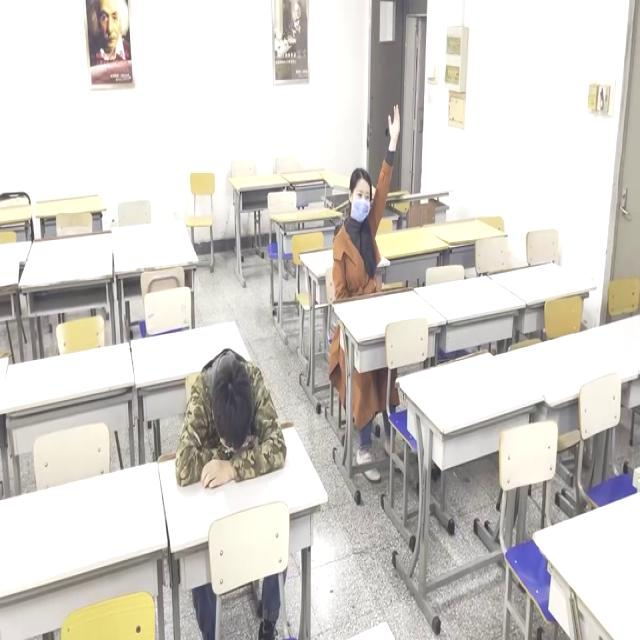sleep: (176, 353, 287, 487)
